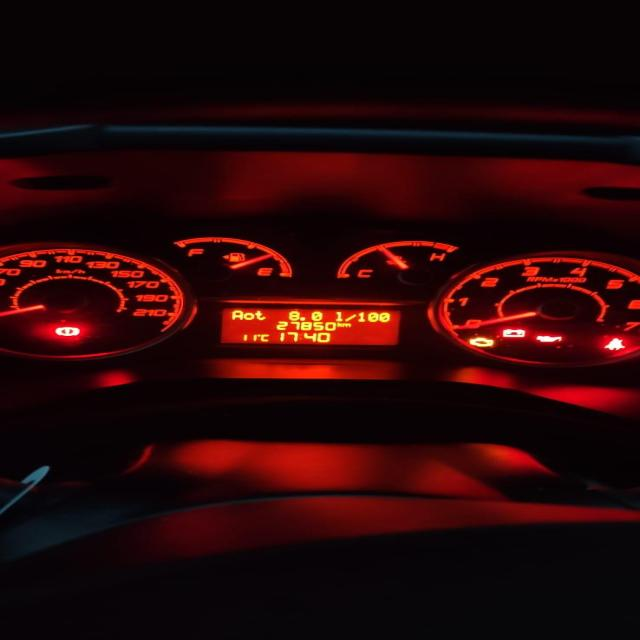odometer: (218, 306, 403, 346)
